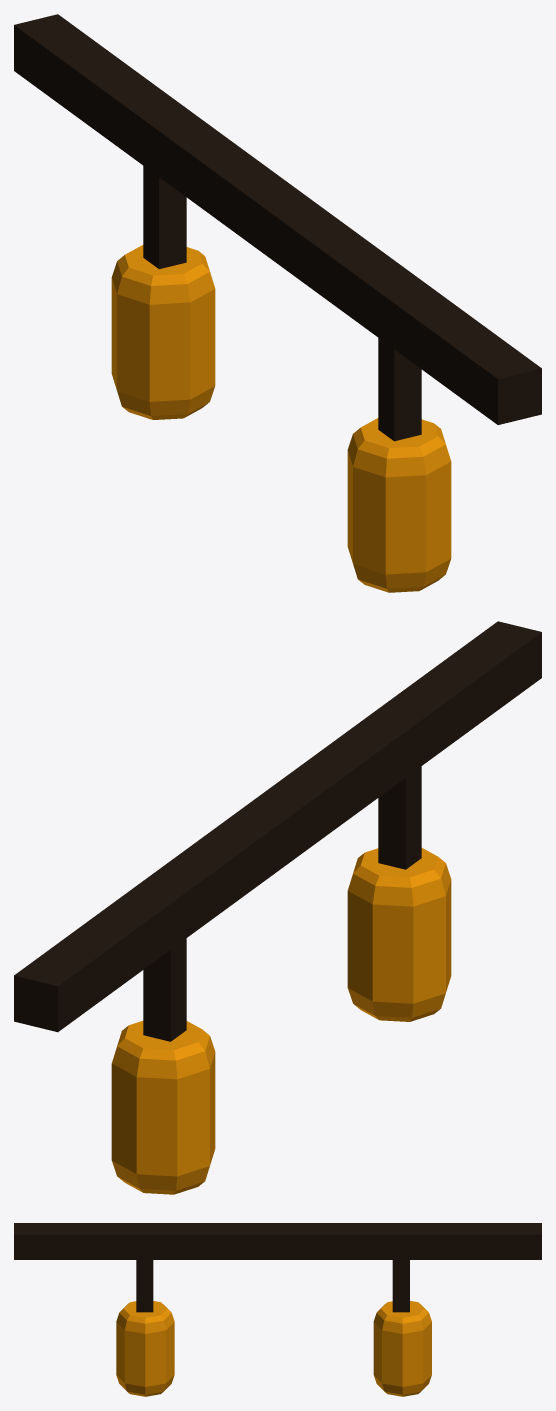
Rendered from StringLight.fbx.
3 views of the same model, one above another, from view 1: azimuth 30°, elevation 25°; view 2: azimuth 150°, elevation 25°; view 3: azimuth 270°, elevation 25° (orthographic). The views are drawn at different scales.
Visible parts, largest first — view 1: Cube; view 2: Cube; view 3: Cube.
Part boxes in pixels (box(x1,y1,x2,y2)): Cube: box(14, 14, 541, 592); Cube: box(14, 621, 541, 1194); Cube: box(14, 1223, 541, 1396).
Size of the model in its own units: 26.58 by 79.56 by 240.
